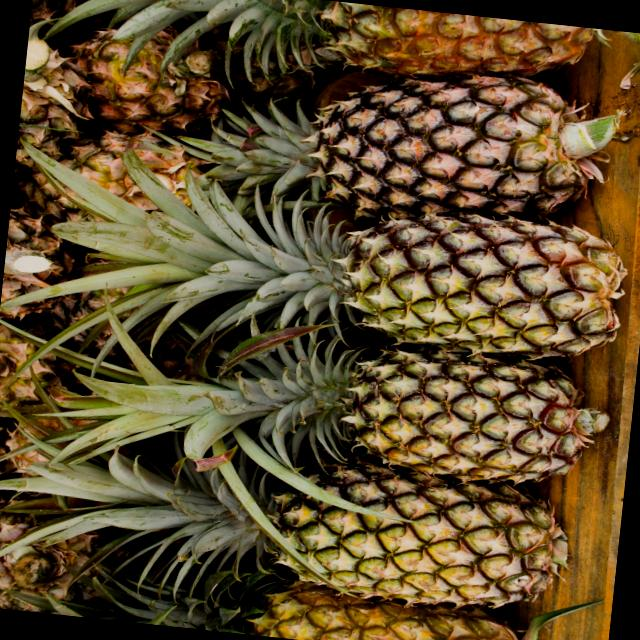pineapple: (283, 193, 626, 370), (217, 454, 567, 618), (300, 59, 607, 228), (290, 330, 604, 493)
